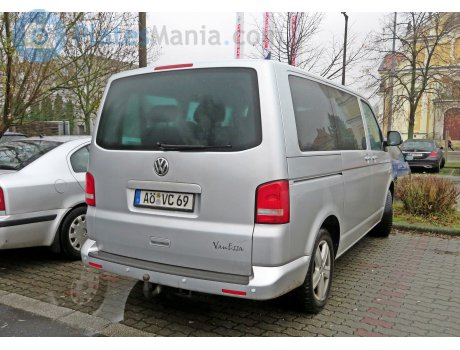License Plates: (139, 192, 192, 206)
